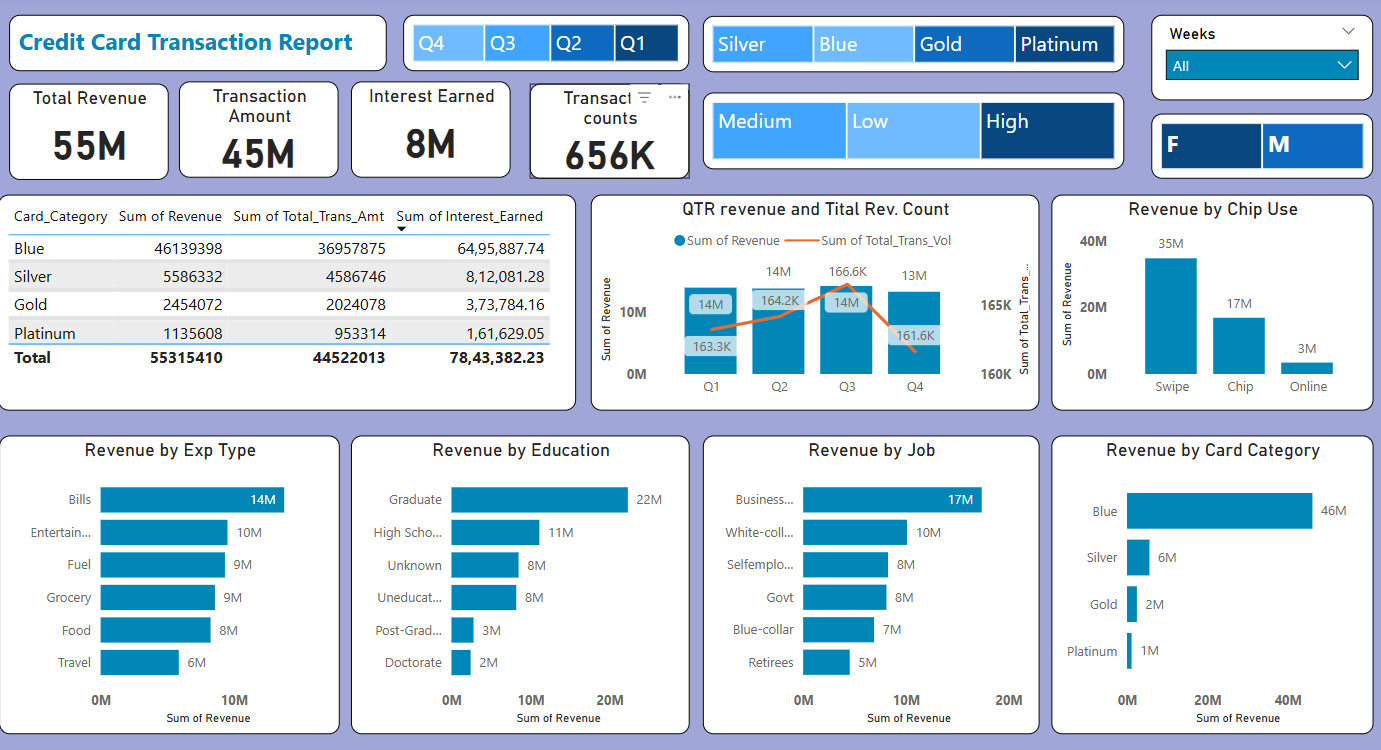

The page's visual inventory and layout, read from the dashboard file:
{"tool":"powerbi","page":{"name":"Transaction Dashboard","canvas":[1280,720],"ordinal":0},"visuals":[{"type":"textbox","box":[10.3,16.4,349.3,52.4],"z":0},{"type":"lineStackedColumnComboChart","title":"QTR revenue and Tital Rev. Count","fields":{"Category":["credit_card.Qtr"],"Y":["Sum(credit_card.Revenue)"],"Y2":["Sum(credit_card.Total_Trans_Vol)"]},"box":[548.7,182.9,415.1,200.4],"z":1000},{"type":"barChart","title":"Revenue by Exp Type","fields":{"Y":["Sum(credit_card.Revenue)"],"Category":["credit_card.Exp Type"]},"box":[1,405.8,315.4,276.4],"z":2000},{"type":"barChart","title":"Revenue by Education","fields":{"Y":["Sum(credit_card.Revenue)"],"Category":["customer.Education_Level"]},"box":[326.7,405.8,313.4,276.4],"z":3000},{"type":"barChart","title":"Revenue by Job","fields":{"Y":["Sum(credit_card.Revenue)"],"Category":["customer.Customer_Job"]},"box":[652.4,405.8,311.3,276.4],"z":4000},{"type":"barChart","title":"Revenue by Card Category","fields":{"Y":["Sum(credit_card.Revenue)"],"Category":["credit_card.Card_Category"]},"box":[975,405.8,298,276.4],"z":5000},{"type":"columnChart","title":"Revenue by Chip Use","fields":{"Category":["credit_card.Use Chip"],"Y":["Sum(credit_card.Revenue)"]},"box":[975,182.9,298,200.4],"z":6000},{"type":"tableEx","fields":{"Values":["credit_card.Card_Category","Sum(credit_card.Revenue)","Sum(credit_card.Total_Trans_Amt)","Sum(credit_card.Interest_Earned)"]},"box":[0,182.9,535.3,200.4],"z":7000},{"type":"card","title":"Total Revenue","fields":{"Values":["Sum(credit_card.Revenue)"]},"box":[10.3,80.1,148,89.4],"z":8000},{"type":"card","title":"Transaction Amount","fields":{"Values":["Sum(credit_card.Total_Trans_Amt)"]},"box":[167.5,78.1,148,89.4],"z":9000},{"type":"card","title":"Transaction counts","fields":{"Values":["Sum(credit_card.Total_Trans_Vol)"]},"box":[492.1,80.1,148,88.4],"z":10000},{"type":"card","title":"Interest Earned","fields":{"Values":["Sum(credit_card.Interest_Earned)"]},"box":[326.7,78.1,148,89.4],"z":11000},{"type":"slicer","fields":{"Values":["credit_card.Week_Start_Date"]},"box":[1067.5,16.4,205.5,79.1],"z":12000},{"type":"treemap","fields":{"Group":["credit_card.Qtr"],"Values":["Avg(customer.Client_Num)"]},"box":[375,16.4,265.1,52.4],"z":13000},{"type":"treemap","fields":{"Group":["customer.Gender"],"Values":["Avg(customer.Client_Num)"]},"box":[1067.5,107.9,205.5,60.6],"z":14000},{"type":"treemap","fields":{"Values":["Avg(customer.Client_Num)"],"Group":["credit_card.Card_Category"]},"box":[652.4,17.5,390.4,52.4],"z":15000},{"type":"treemap","fields":{"Values":["Avg(customer.Client_Num)"],"Group":["customer.SalaryGroup"]},"box":[652.4,88.4,390.4,70.9],"z":16000}]}

Visuals, with their boxes in screenshot pixels (x1, y1, x2, y2):
textbox: detection(15, 18, 387, 73)
"QTR revenue and Tital Rev. Count" lineStackedColumnComboChart: detection(589, 195, 1032, 409)
"Revenue by Exp Type" barChart: detection(5, 433, 341, 728)
"Revenue by Education" barChart: detection(352, 433, 687, 728)
"Revenue by Job" barChart: detection(700, 433, 1032, 728)
"Revenue by Card Category" barChart: detection(1044, 433, 1362, 728)
"Revenue by Chip Use" columnChart: detection(1044, 195, 1362, 409)
tableEx - credit_card.Card_Category x Sum(credit_card.Revenue): detection(4, 195, 575, 409)
"Total Revenue" card: detection(15, 85, 173, 181)
"Transaction Amount" card: detection(182, 83, 340, 179)
"Transaction counts" card: detection(529, 85, 687, 180)
"Interest Earned" card: detection(352, 83, 510, 179)
slicer - credit_card.Week_Start_Date: detection(1143, 18, 1362, 102)
treemap - credit_card.Qtr x Avg(customer.Client_Num): detection(404, 18, 687, 73)
treemap - customer.Gender x Avg(customer.Client_Num): detection(1143, 115, 1362, 180)
treemap - Avg(customer.Client_Num) x credit_card.Card_Category: detection(700, 19, 1117, 75)
treemap - Avg(customer.Client_Num) x customer.SalaryGroup: detection(700, 94, 1117, 170)
